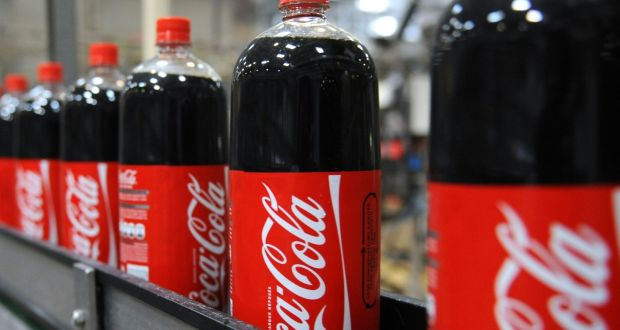coke: (430, 3, 620, 316), (232, 3, 386, 330), (123, 26, 231, 299), (63, 52, 130, 269), (23, 65, 62, 237)
